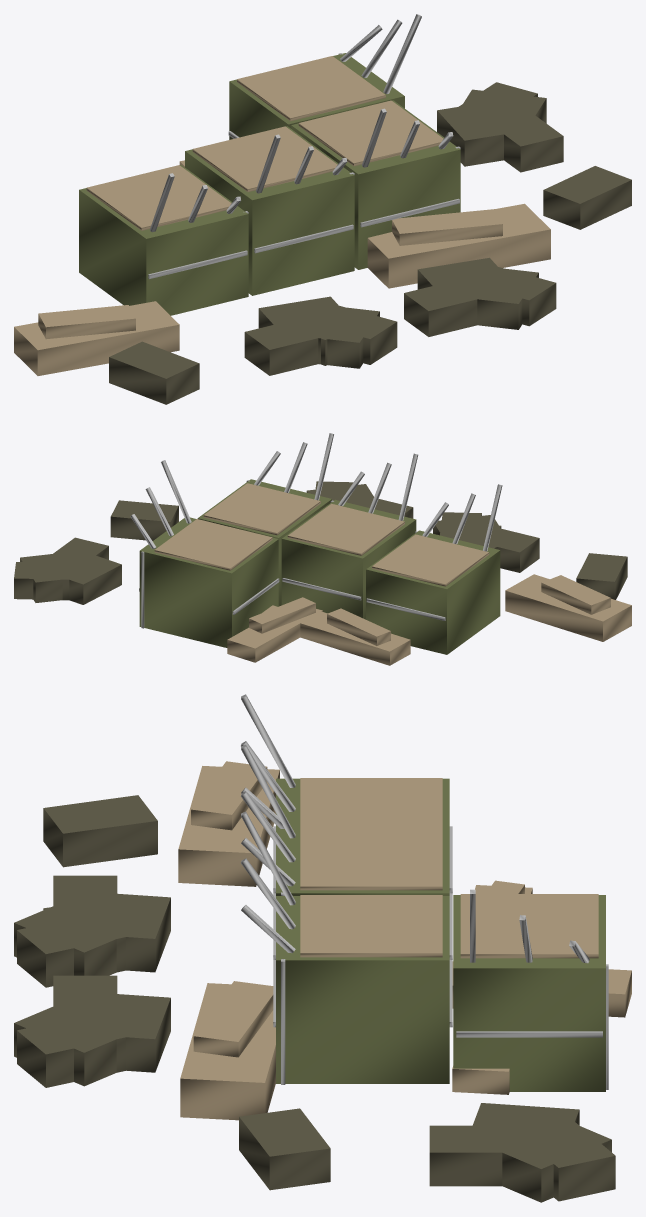
Rendered from SM_HescoRemateEspejo_v3_RemateSacos_e2_MuyDanado_LOD0.fbx.
The picture shows the model from 3 angles, top to bottom: view 1: azimuth 30°, elevation 25°; view 2: azimuth 150°, elevation 25°; view 3: azimuth 270°, elevation 25°; orthographic projection. The views are drawn at different scales.
Parts seen in each view (by area): view 1: SM_hesco_piezas_v34_LOD0; view 2: SM_hesco_piezas_v34_LOD0; view 3: SM_hesco_piezas_v34_LOD0.
Boxes of the visible parts, x1,y1,x2,y2 form: SM_hesco_piezas_v34_LOD0: (14,14,631,404); SM_hesco_piezas_v34_LOD0: (14,433,631,665); SM_hesco_piezas_v34_LOD0: (14,694,631,1202).
Size of the model in its own units: 6.71 by 1.67 by 4.34.
